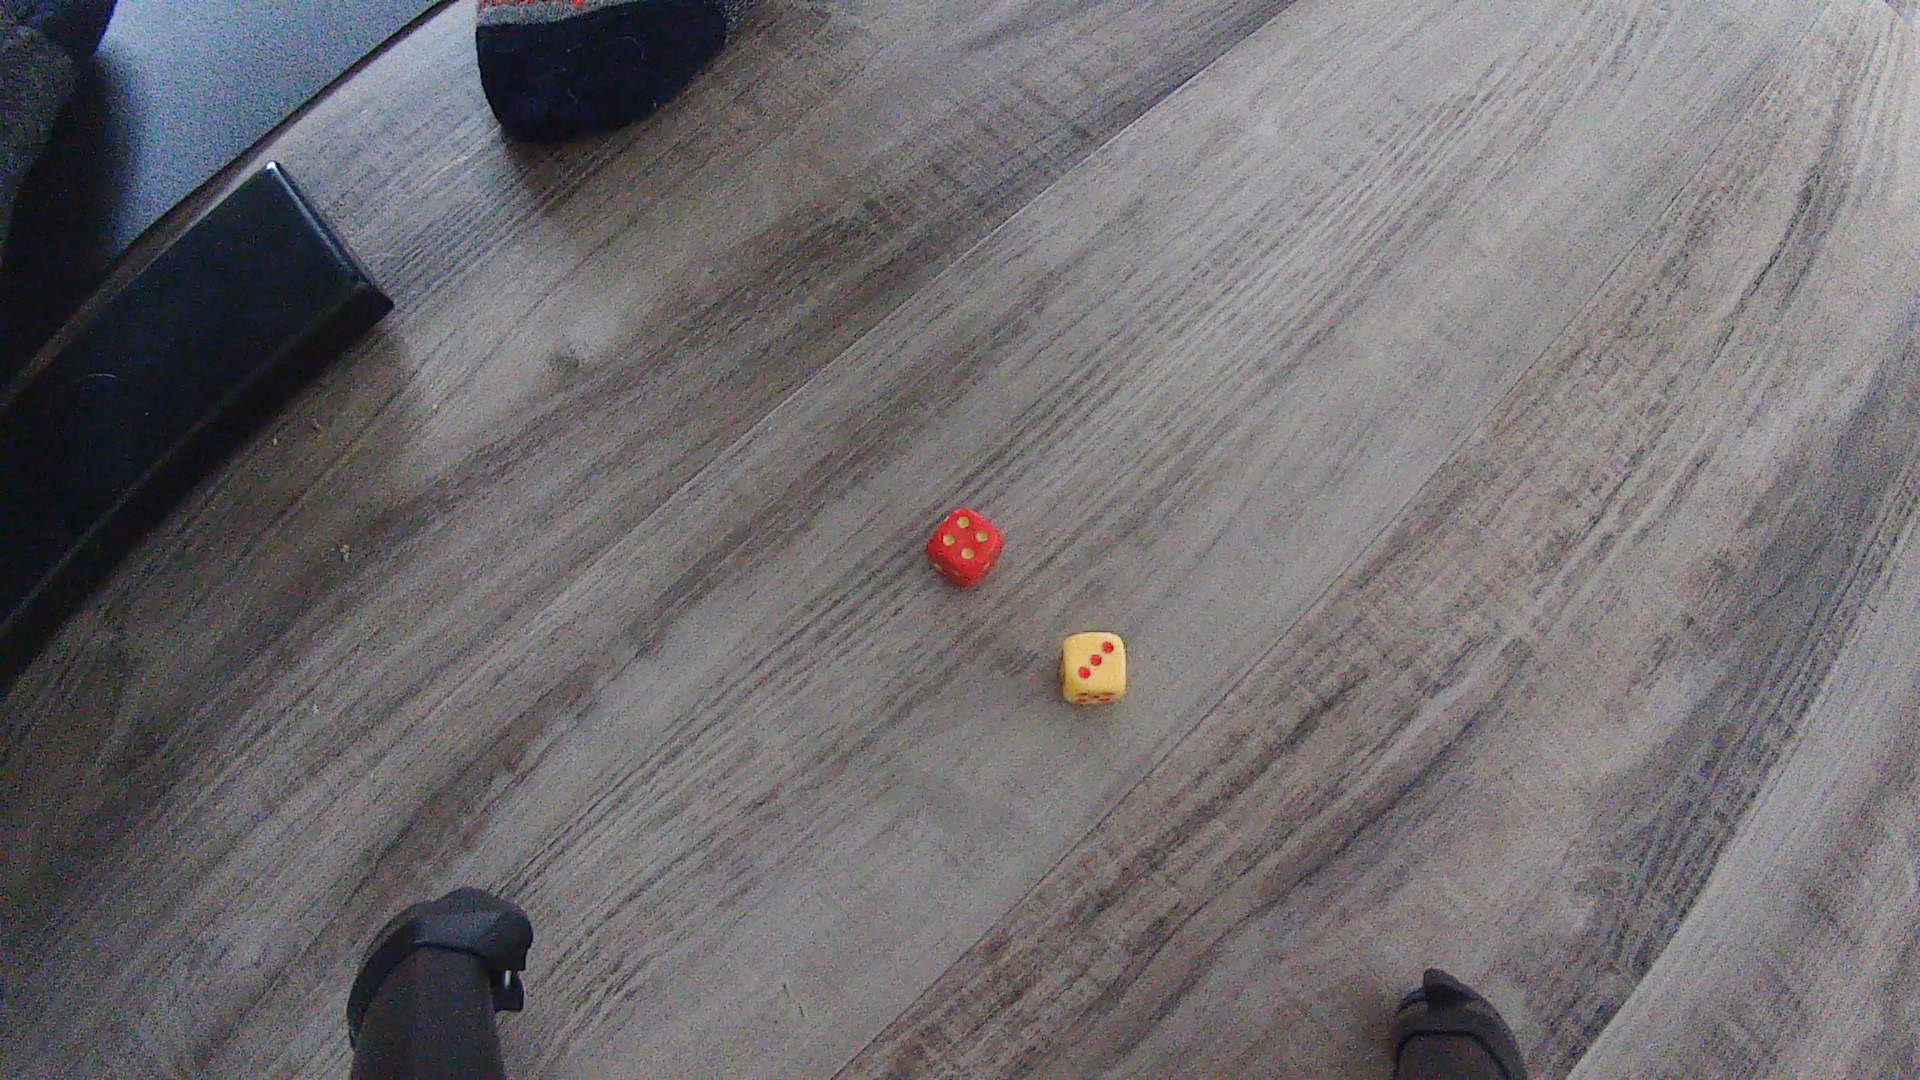die: (927, 508, 1004, 591), (1059, 629, 1127, 707)
